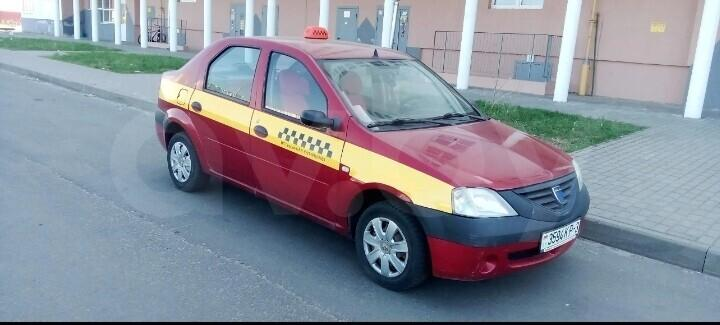Logan_2004-2009: (154, 30, 586, 285)
